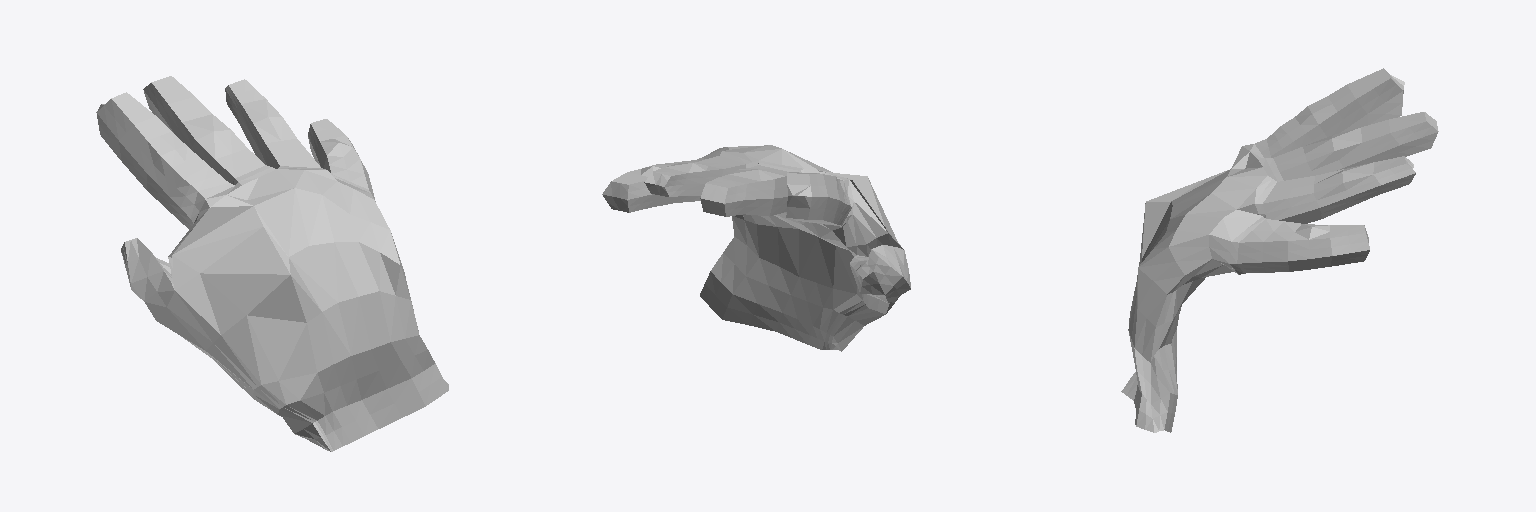
Rendered from flexion0032.obj.
The picture shows the model from 3 angles: view 1: azimuth 30°, elevation 25°; view 2: azimuth 150°, elevation 25°; view 3: azimuth 270°, elevation 25°; orthographic projection.
Parts seen in each view (by area): view 1: Hand; view 2: Hand; view 3: Hand.
Boxes of the visible parts, box(x1,y1,x2,y2) form: Hand: box(96, 76, 448, 451); Hand: box(602, 145, 910, 351); Hand: box(1121, 68, 1438, 432).
Size of the model in its own units: 3.27 by 3.42 by 3.45.